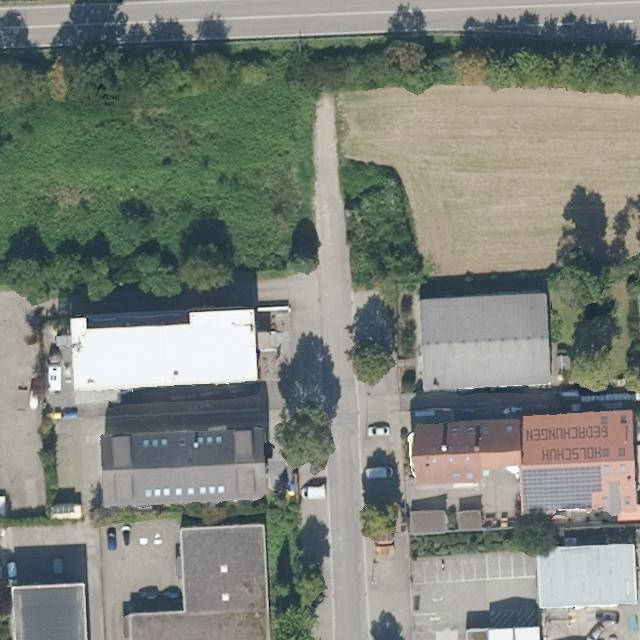PV: (518, 462, 606, 516), (603, 480, 625, 519)
